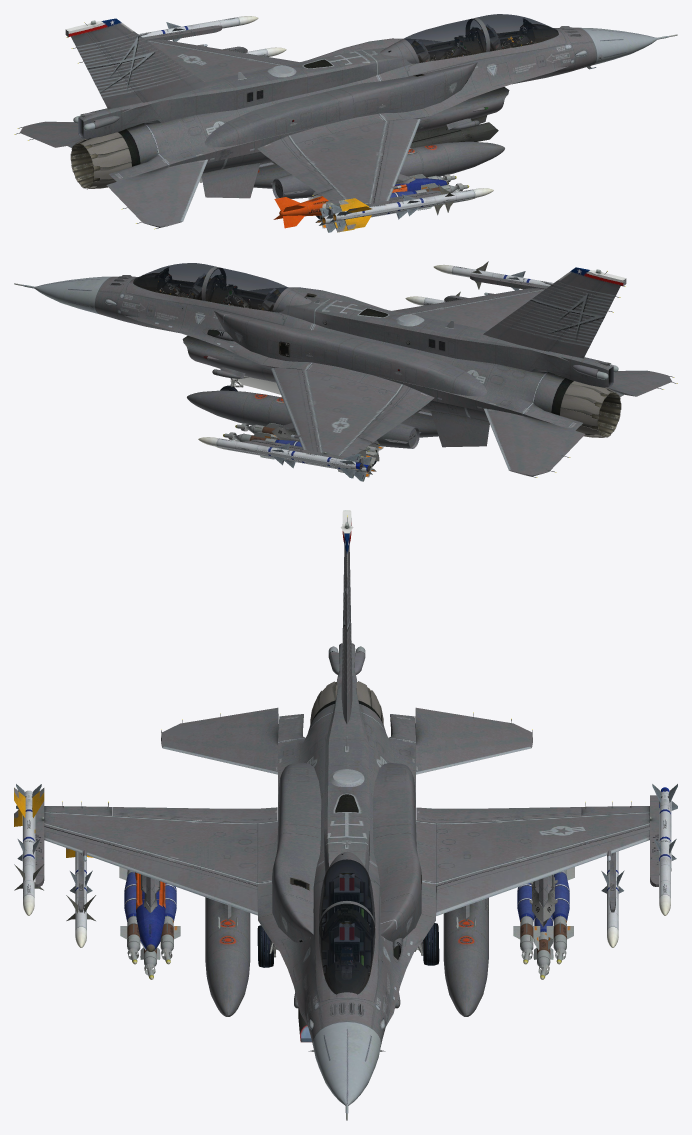
3 views of the same model, one above another, from view 1: azimuth 30°, elevation 25°; view 2: azimuth 150°, elevation 25°; view 3: azimuth 270°, elevation 25° (orthographic). The views are drawn at different scales.
Visible parts, largest first — view 1: f16e-airframe (×9), f16e-canopy; view 2: f16e-airframe (×9), f16e-canopy; view 3: f16e-airframe (×9), f16e-canopy.
Part boxes in pixels (x1,y1,x2,y2): f16e-airframe (×9): [14, 16, 677, 232]; f16e-canopy: [91, 14, 558, 204]; f16e-airframe (×9): [14, 261, 677, 481]; f16e-canopy: [133, 263, 601, 453]; f16e-airframe (×9): [14, 510, 677, 1105]; f16e-canopy: [42, 522, 651, 994].
Size of the model in its own units: 14 by 5.01 by 9.74.
Materials: 17 (17 with a texture image).
